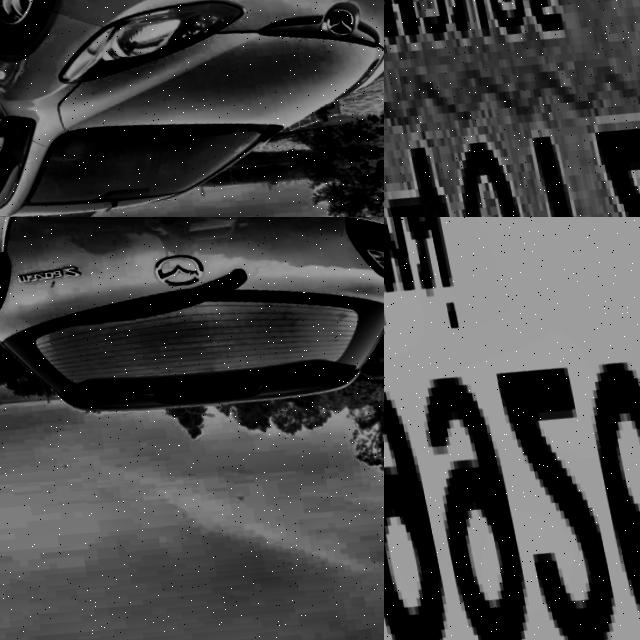license-plate: (384, 217, 640, 640), (384, 0, 640, 217)
